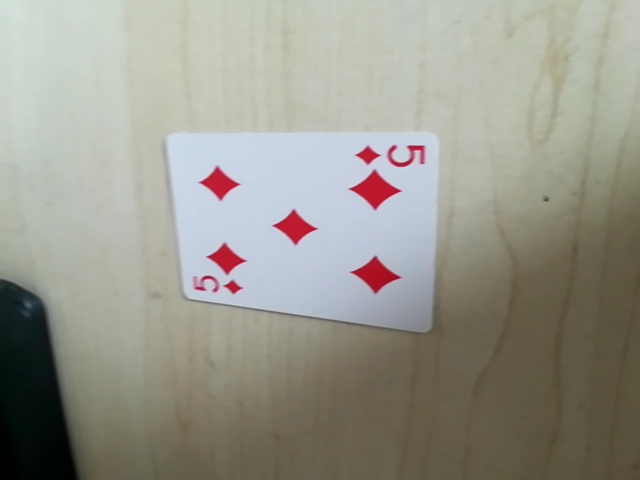fk 5: (351, 136, 429, 171), (189, 271, 248, 300)
